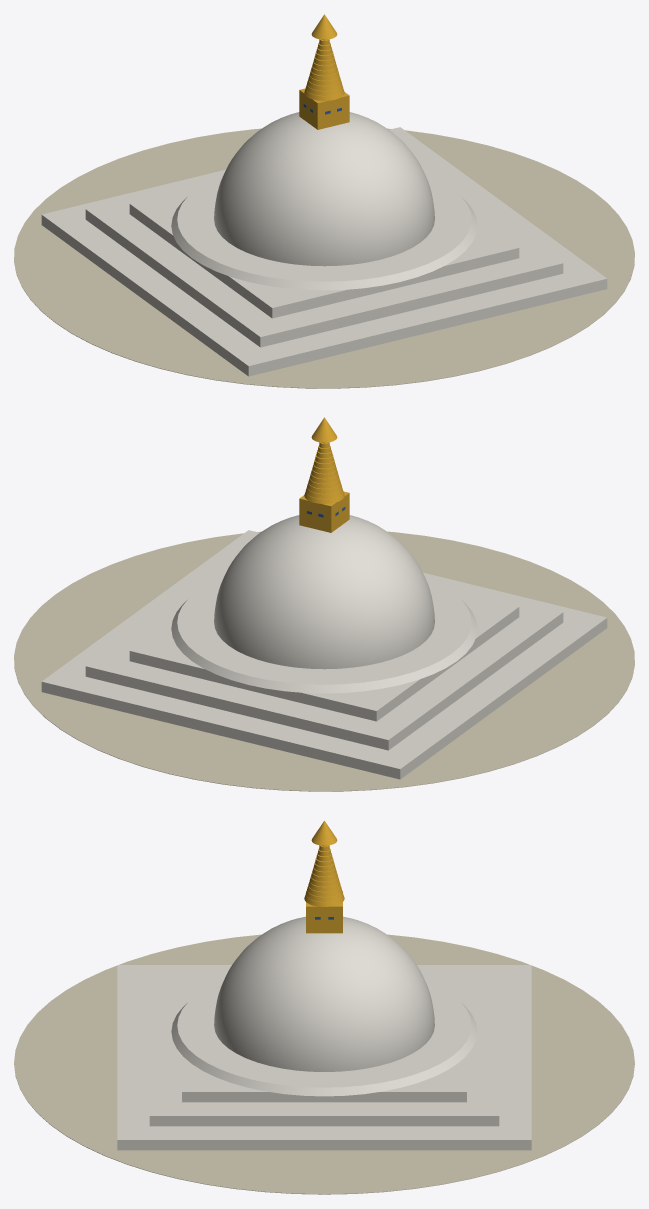
Rendered from boudhanath.gltf.
3 views of the same model, one above another, from view 1: azimuth 30°, elevation 25°; view 2: azimuth 150°, elevation 25°; view 3: azimuth 270°, elevation 25° (orthographic).
Visible parts, largest first — view 1: ground, dome, object 1, object 2, object 4, object 3, harmika; view 2: ground, dome, object 1, object 2, object 4, object 3, harmika; view 3: ground, dome, object 1, object 2, object 4, object 3, harmika.
Boxes of the visible parts, x1=… form: ground: x1=14, y1=128, x2=634, y2=388; dome: x1=214, y1=112, x2=434, y2=266; object 1: x1=41, y1=127, x2=607, y2=376; object 2: x1=85, y1=153, x2=563, y2=347; object 4: x1=171, y1=174, x2=477, y2=290; object 3: x1=129, y1=187, x2=519, y2=318; harmika: x1=299, y1=88, x2=349, y2=129; ground: x1=14, y1=531, x2=634, y2=791; dome: x1=214, y1=515, x2=434, y2=669; object 1: x1=41, y1=530, x2=607, y2=779; object 2: x1=85, y1=556, x2=563, y2=750; object 4: x1=171, y1=577, x2=477, y2=693; object 3: x1=129, y1=590, x2=519, y2=721; harmika: x1=299, y1=491, x2=349, y2=532; ground: x1=14, y1=934, x2=634, y2=1194; dome: x1=214, y1=916, x2=434, y2=1071; object 1: x1=117, y1=965, x2=531, y2=1150; object 2: x1=149, y1=968, x2=499, y2=1126; object 4: x1=171, y1=980, x2=477, y2=1096; object 3: x1=182, y1=971, x2=466, y2=1102; harmika: x1=306, y1=891, x2=342, y2=933.
Size of the model in its own units: 135 by 58.3 by 135.
